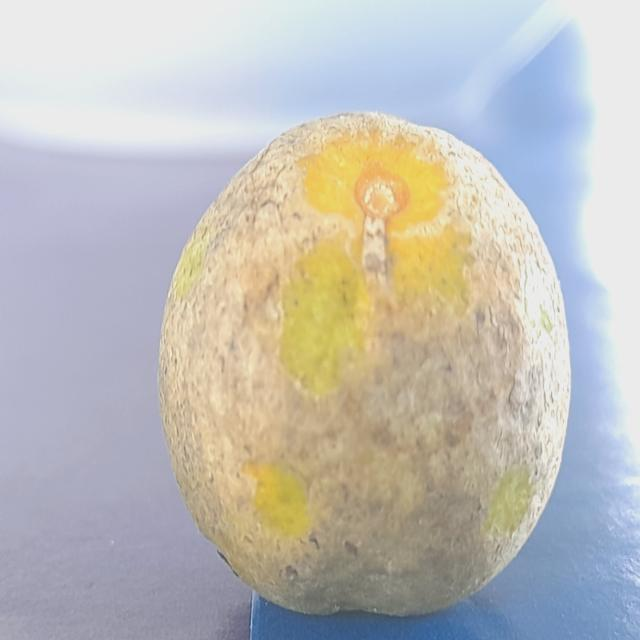thrips: (159, 98, 572, 602)
